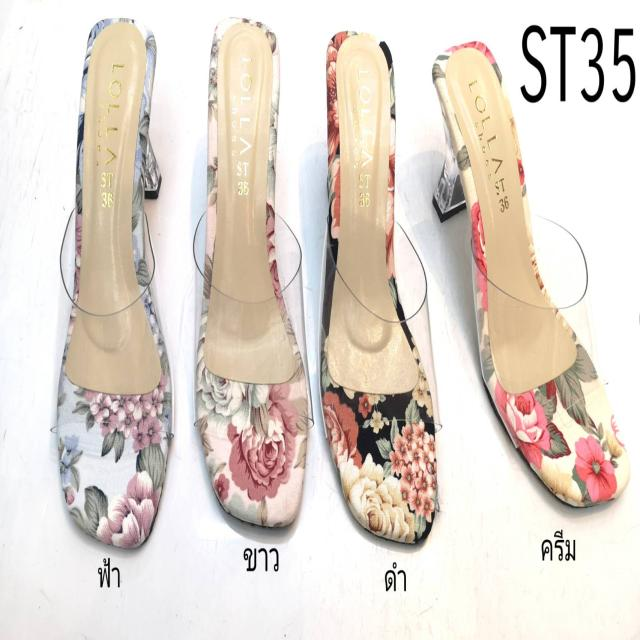black: (320, 30, 438, 548)
blue: (59, 15, 174, 543)
cream: (436, 39, 630, 508)
white: (201, 15, 308, 528)
